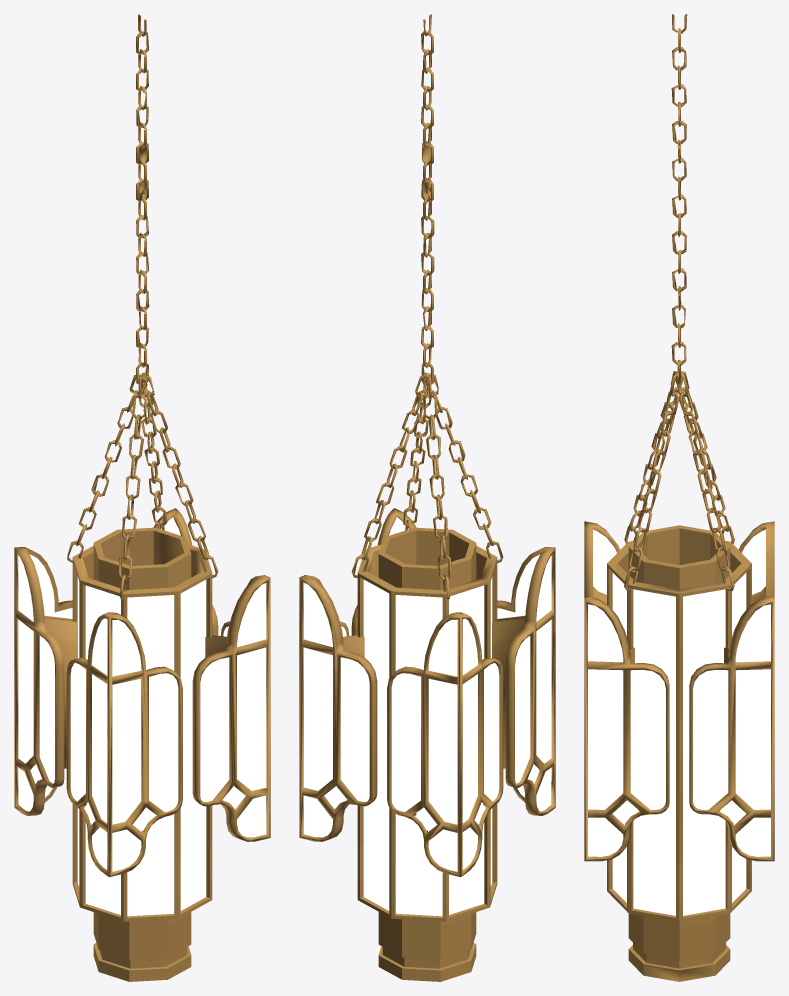
The model's file is chandelier_edited.gltf.
3 views of the same model, side by side, from view 1: azimuth 30°, elevation 25°; view 2: azimuth 150°, elevation 25°; view 3: azimuth 270°, elevation 25° (orthographic).
Parts seen in each view (by area): view 1: Object_5, Object_4, Object_4.002; view 2: Object_5, Object_4, Object_4.002; view 3: Object_5, Object_4, Object_4.002.
Boxes of the visible parts, x1=… form: Object_5: x1=18, y1=517, x2=266, y2=916; Object_4: x1=14, y1=508, x2=270, y2=981; Object_4.002: x1=67, y1=14, x2=218, y2=599; Object_5: x1=303, y1=517, x2=551, y2=916; Object_4: x1=299, y1=508, x2=555, y2=981; Object_4.002: x1=351, y1=14, x2=503, y2=599; Object_5: x1=588, y1=529, x2=770, y2=915; Object_4: x1=584, y1=521, x2=774, y2=981; Object_4.002: x1=624, y1=14, x2=734, y2=591.
Bounding box in the file's own units: 2.58 × 14.43 × 2.63.
2 materials, 1 textured.
